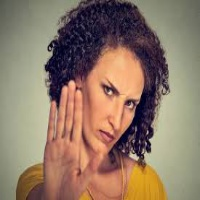ring: (56, 83, 66, 146)
